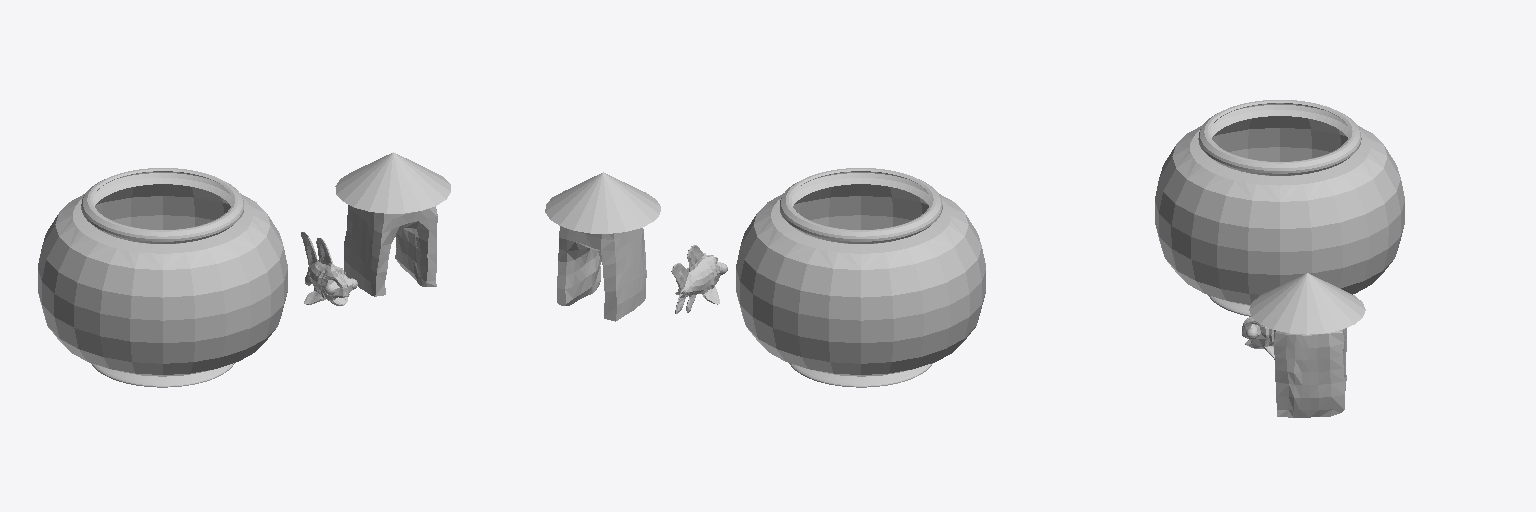
The model's file is Export_bowl_fish_prop.obj.
3 views of the same model, side by side, from view 1: azimuth 30°, elevation 25°; view 2: azimuth 150°, elevation 25°; view 3: azimuth 270°, elevation 25° (orthographic).
Parts seen in each view (by area): view 1: Fish_Bowl, CastleMesh, CastleMesh Castle_model:pCone1, FishMesh; view 2: Fish_Bowl, CastleMesh, CastleMesh Castle_model:pCone1, FishMesh; view 3: Fish_Bowl, CastleMesh, CastleMesh Castle_model:pCone1, FishMesh.
Boxes of the visible parts, x1=… form: Fish_Bowl: x1=38, y1=168, x2=287, y2=387; CastleMesh: x1=344, y1=205, x2=437, y2=296; CastleMesh Castle_model:pCone1: x1=335, y1=152, x2=450, y2=213; FishMesh: x1=301, y1=232, x2=352, y2=305; Fish_Bowl: x1=736, y1=168, x2=985, y2=387; CastleMesh: x1=557, y1=226, x2=646, y2=321; CastleMesh Castle_model:pCone1: x1=545, y1=172, x2=660, y2=233; FishMesh: x1=671, y1=245, x2=722, y2=313; Fish_Bowl: x1=1155, y1=100, x2=1404, y2=316; CastleMesh: x1=1274, y1=328, x2=1346, y2=417; CastleMesh Castle_model:pCone1: x1=1249, y1=273, x2=1365, y2=334; FishMesh: x1=1242, y1=317, x2=1274, y2=359.
Bounding box in the file's own units: 20.6 × 7.73 × 11.09.